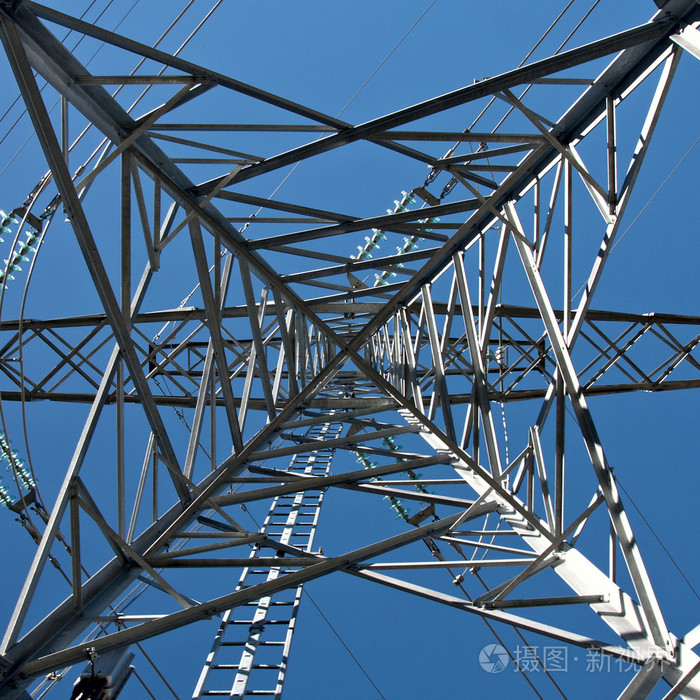insulator: (352, 191, 440, 280), (361, 436, 426, 518), (1, 209, 40, 290), (1, 434, 35, 503)
